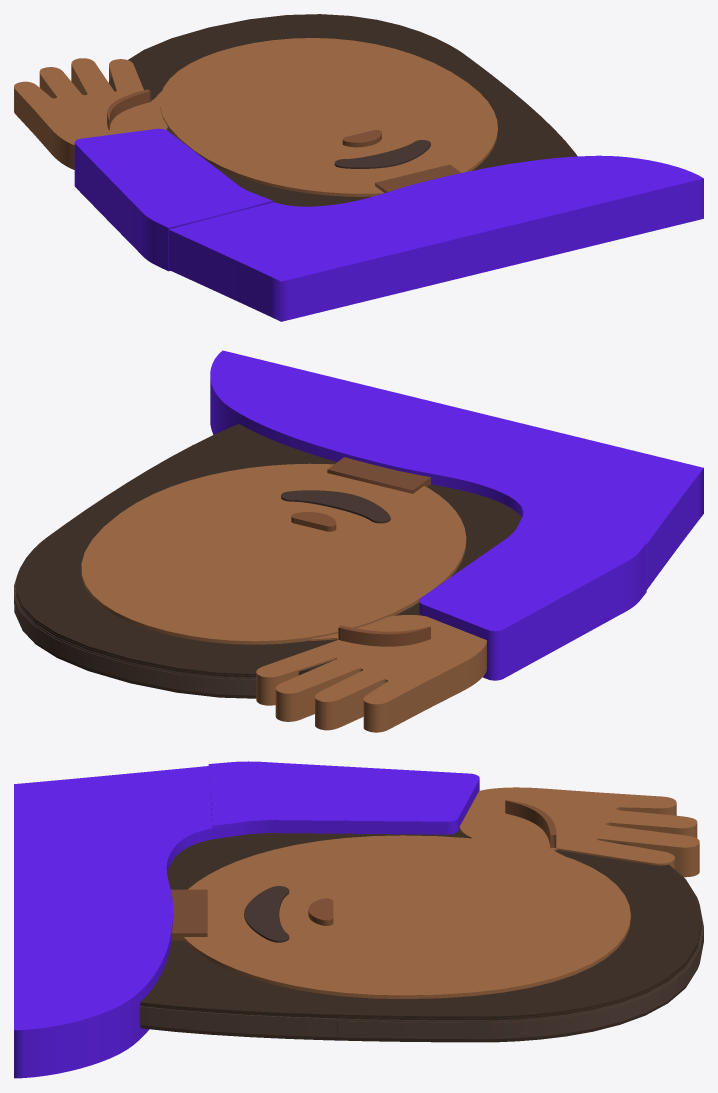
File: emoji_u1f64b_1f3fe_200d_2640.glb
3 renders of one model, top to bottom at view 1: azimuth 30°, elevation 25°; view 2: azimuth 150°, elevation 25°; view 3: azimuth 270°, elevation 25°, orthographic. The views are drawn at different scales.
Visible parts, largest first — view 1: emoji_u1f64b_1f3fe_200d_2640; view 2: emoji_u1f64b_1f3fe_200d_2640; view 3: emoji_u1f64b_1f3fe_200d_2640.
Boxes of the visible parts, x1,y1,x2,y2 form: emoji_u1f64b_1f3fe_200d_2640: (14, 14, 703, 321); emoji_u1f64b_1f3fe_200d_2640: (14, 350, 703, 732); emoji_u1f64b_1f3fe_200d_2640: (14, 761, 703, 1078).
Size of the model in its own units: 0.031 by 0.003 by 0.0338.
